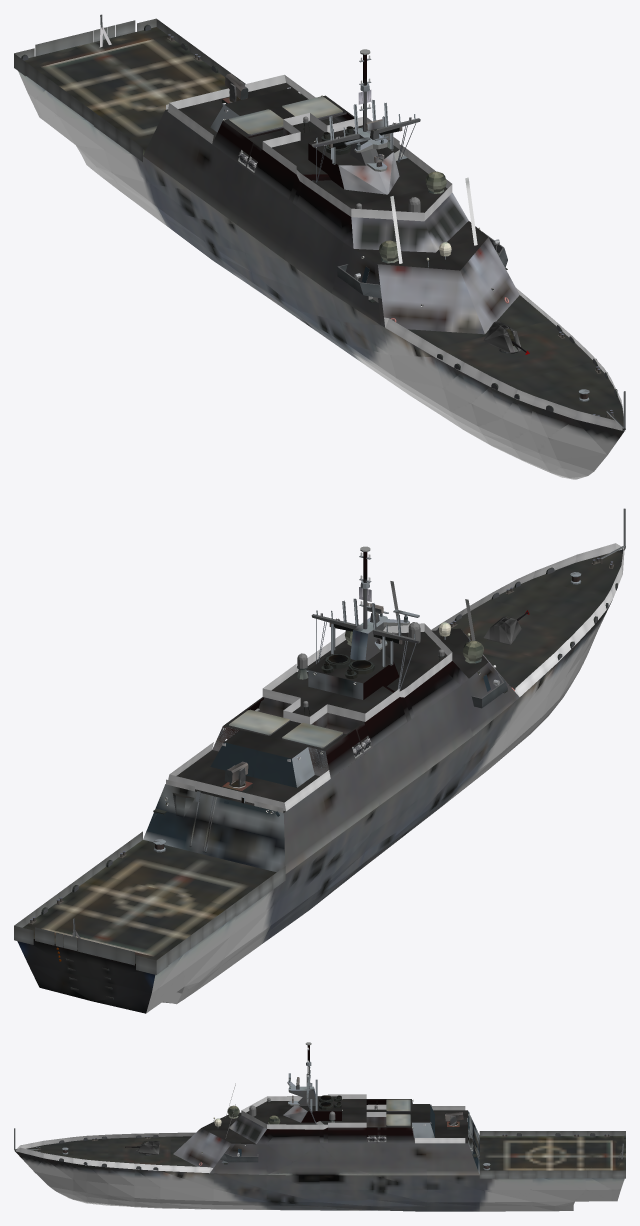
The model's file is LCS-1.fbx.
The picture shows the model from 3 angles, top to bottom: view 1: azimuth 30°, elevation 25°; view 2: azimuth 150°, elevation 25°; view 3: azimuth 270°, elevation 25°; orthographic projection. The views are drawn at different scales.
Parts seen in each view (by area): view 1: LCS-1; view 2: LCS-1; view 3: LCS-1.
Part boxes in pixels (left/top/right/bottom): LCS-1: left=14, top=14, right=625, bottom=479; LCS-1: left=14, top=508, right=625, bottom=1013; LCS-1: left=14, top=1042, right=625, bottom=1211.
Size of the model in its own units: 17.79 by 33.95 by 115.
Materials: 1 (1 with a texture image).
